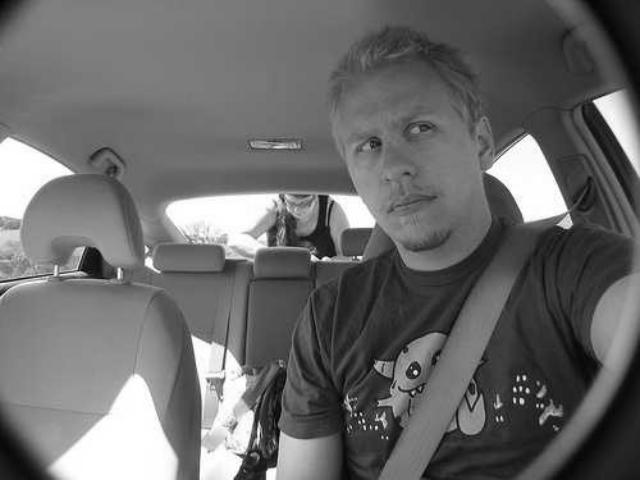SafeDriving: (399, 112, 444, 144), (350, 128, 389, 158)
Seatbelt: (370, 154, 594, 480)
